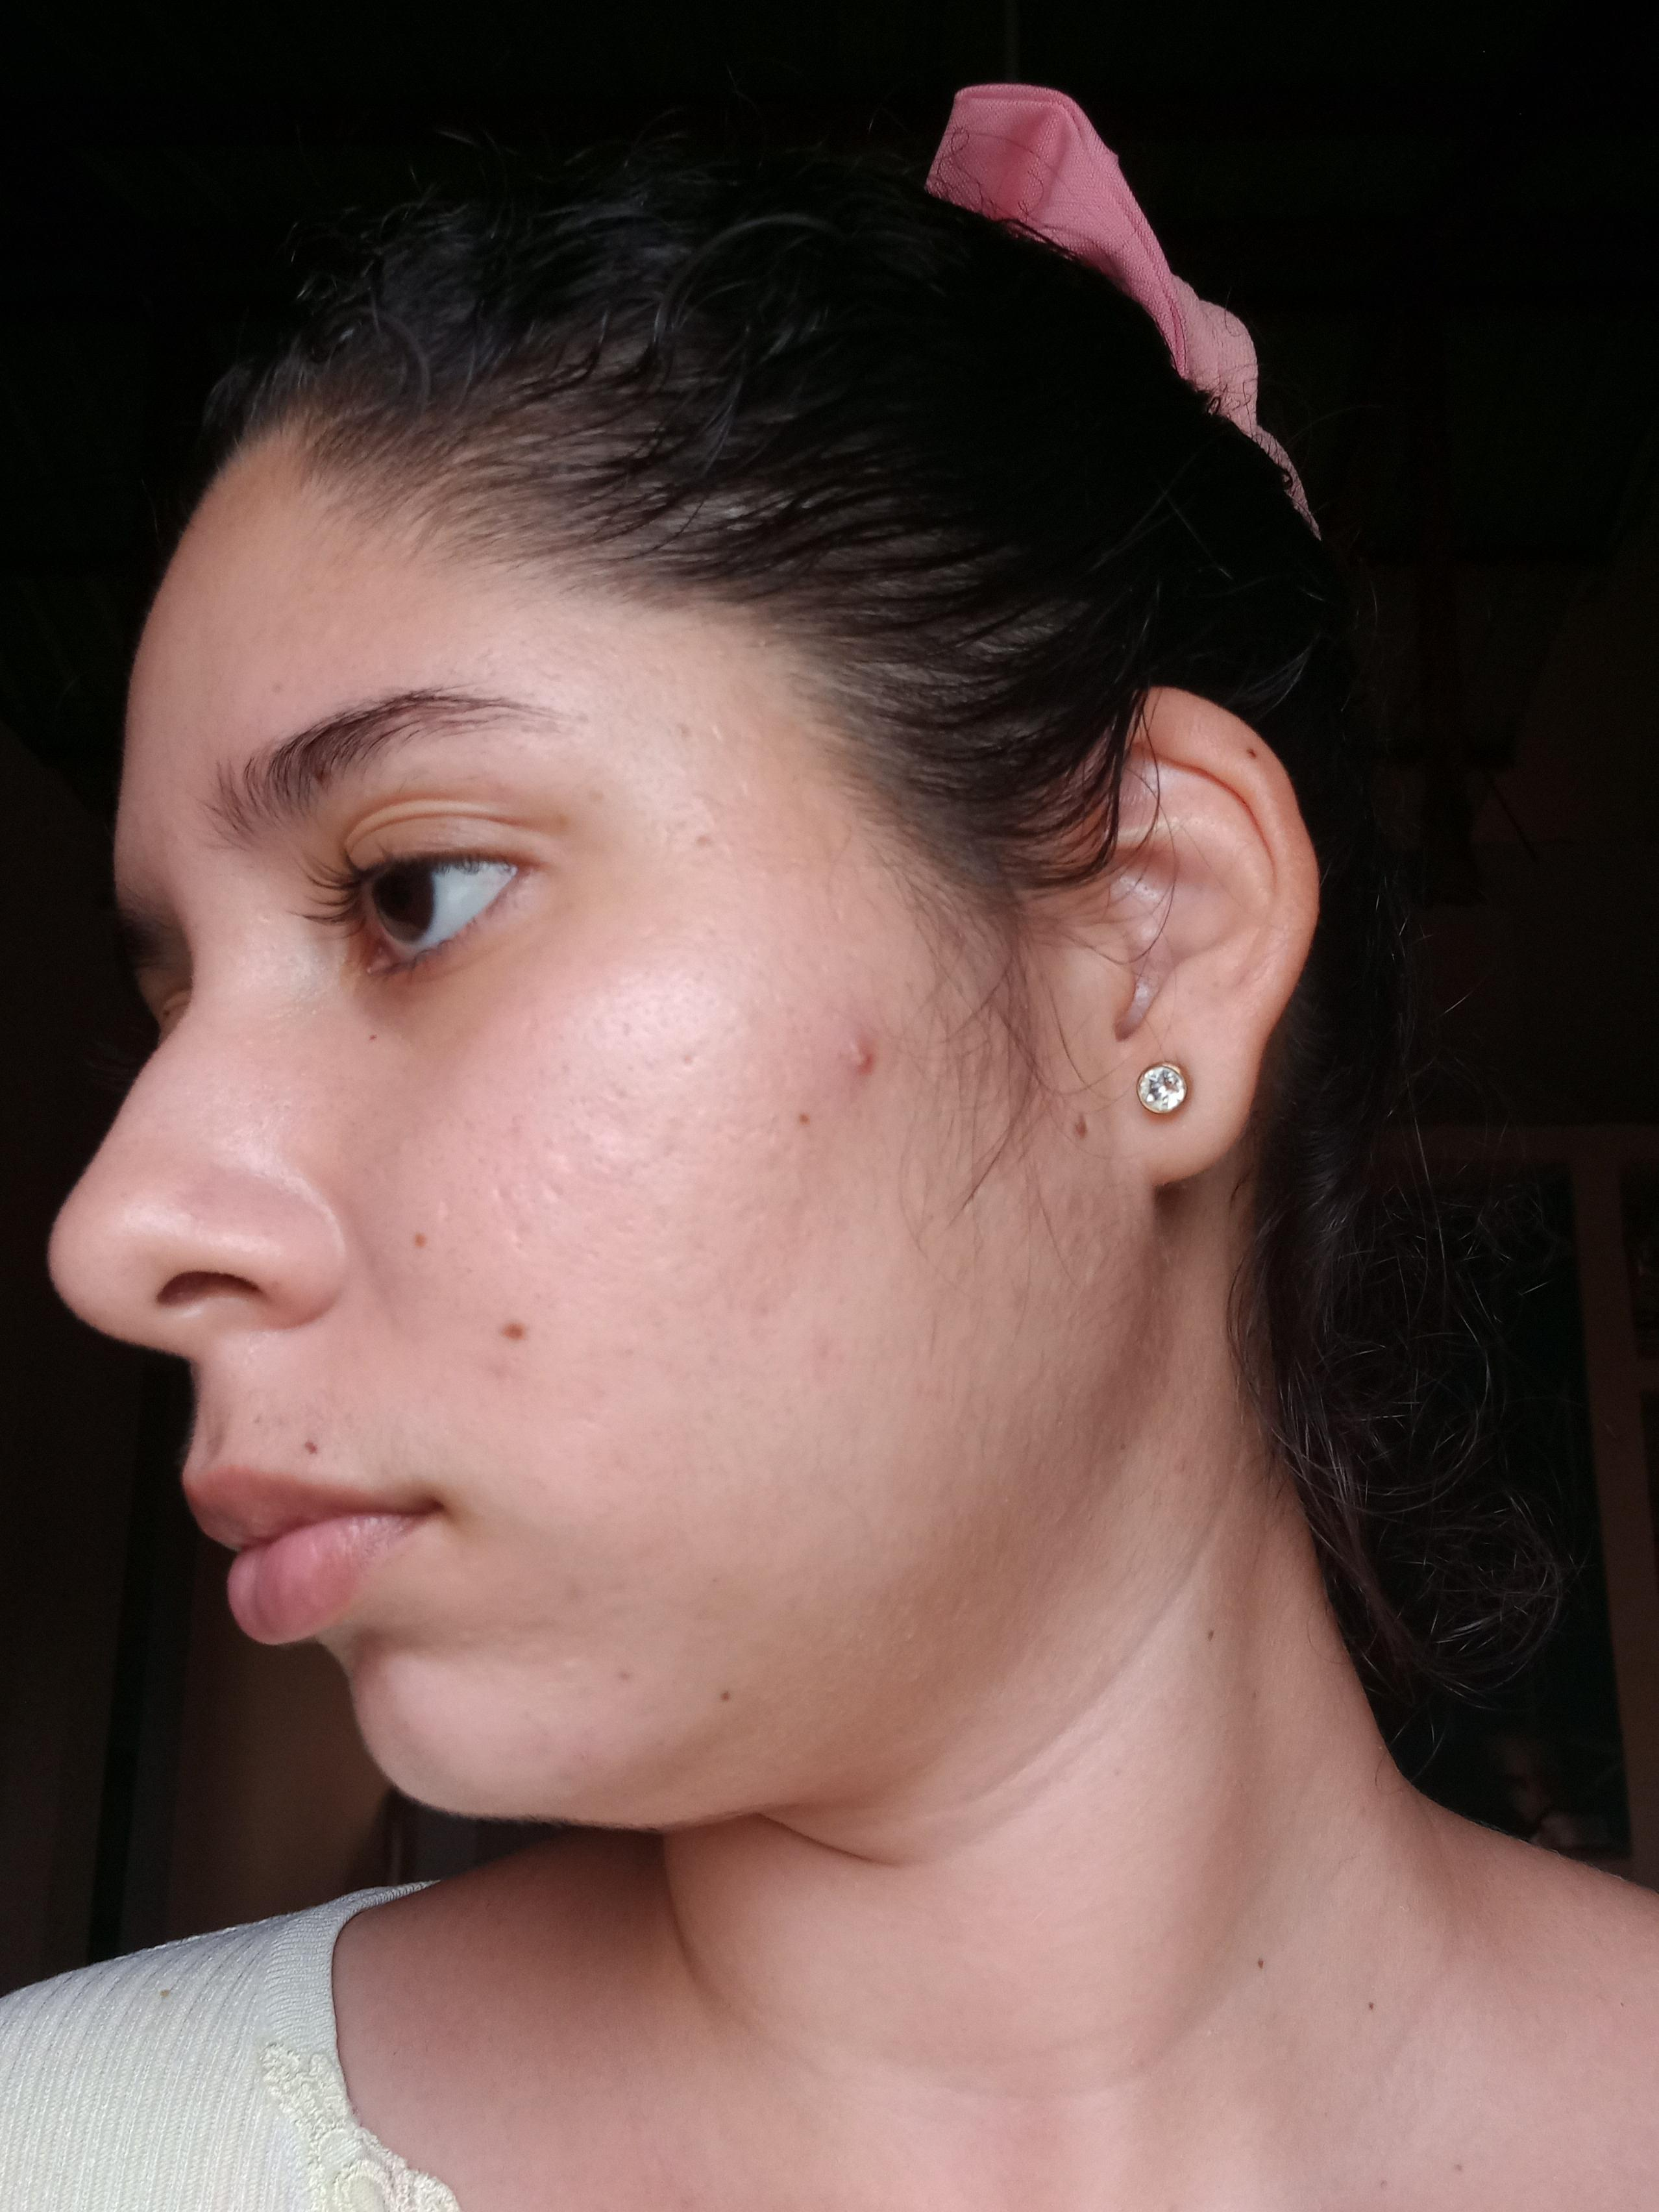Acne: (836, 1033, 885, 1085)
Englarged-Pores: (471, 963, 760, 1287)
